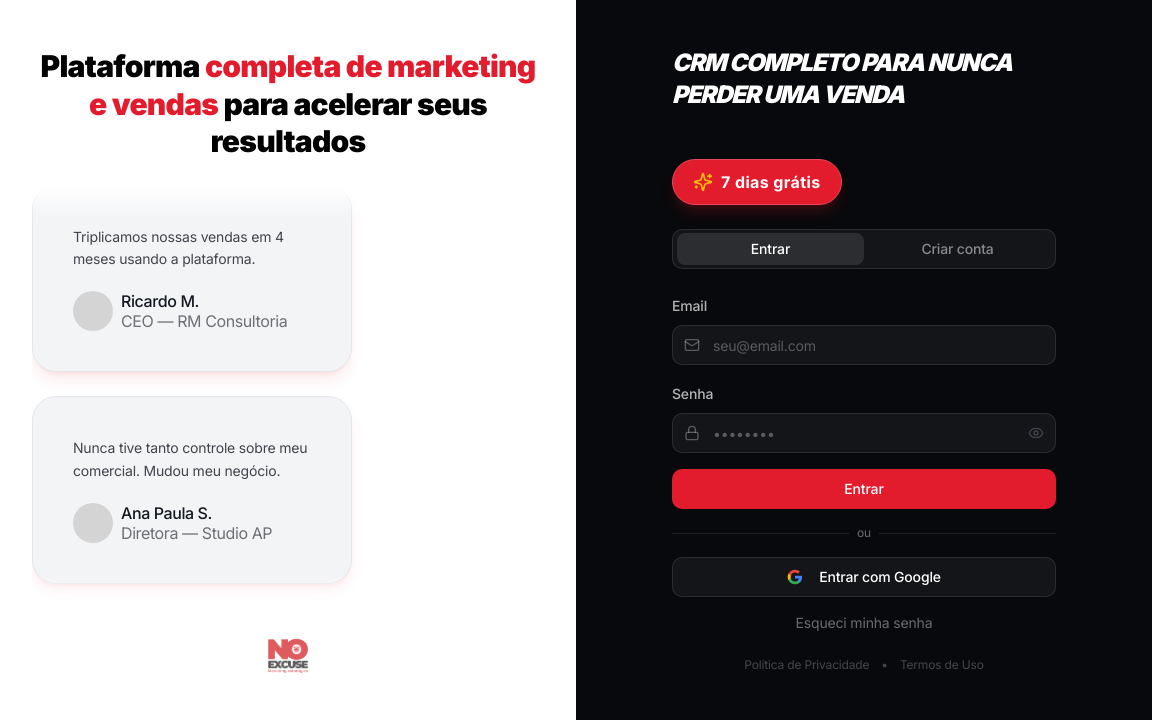
it: SaasAuth (Cliente SaaS) › switches to forgot password mode
Step 1. Click the button "Esqueci minha senha" → (864, 623), box [672,613,1056,633]
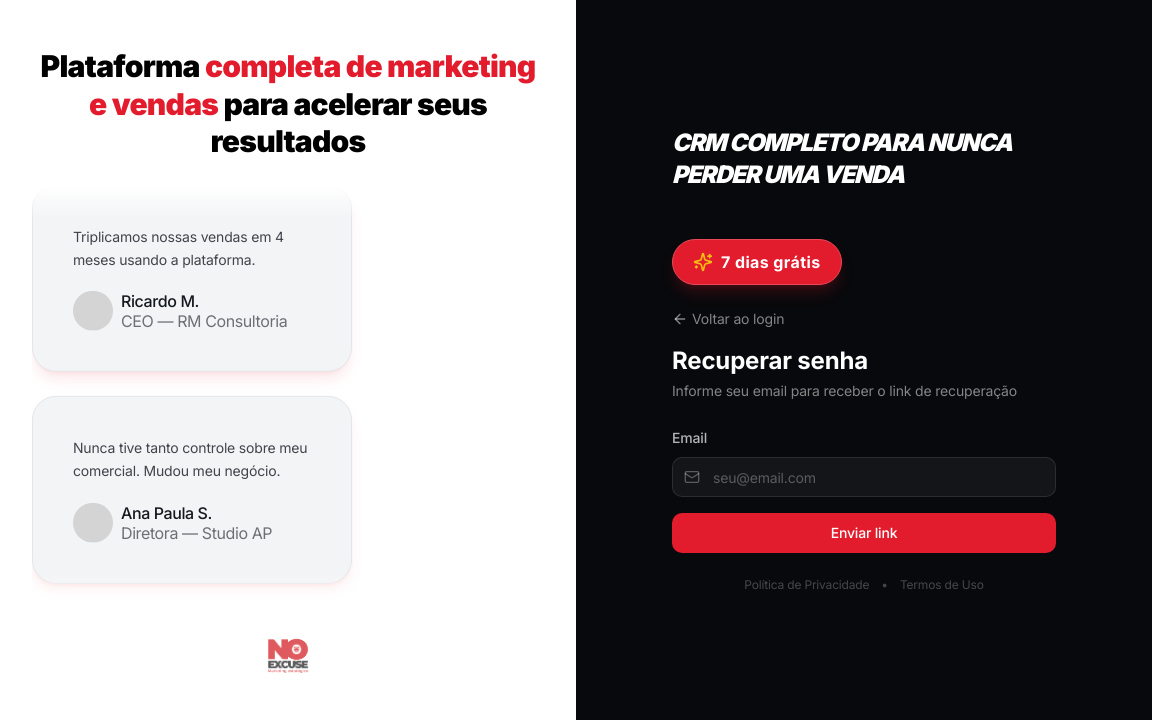
Now the heading "Recuperar senha" is shown, box [672,346,868,375]
